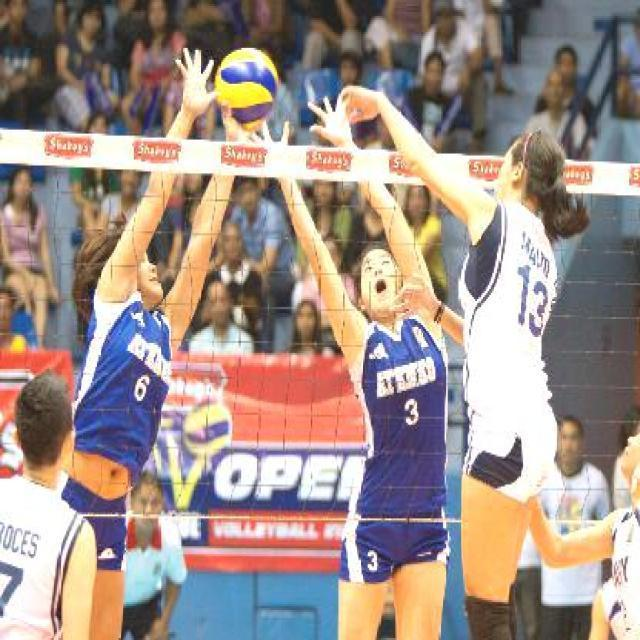volleyball: (212, 48, 278, 130)
